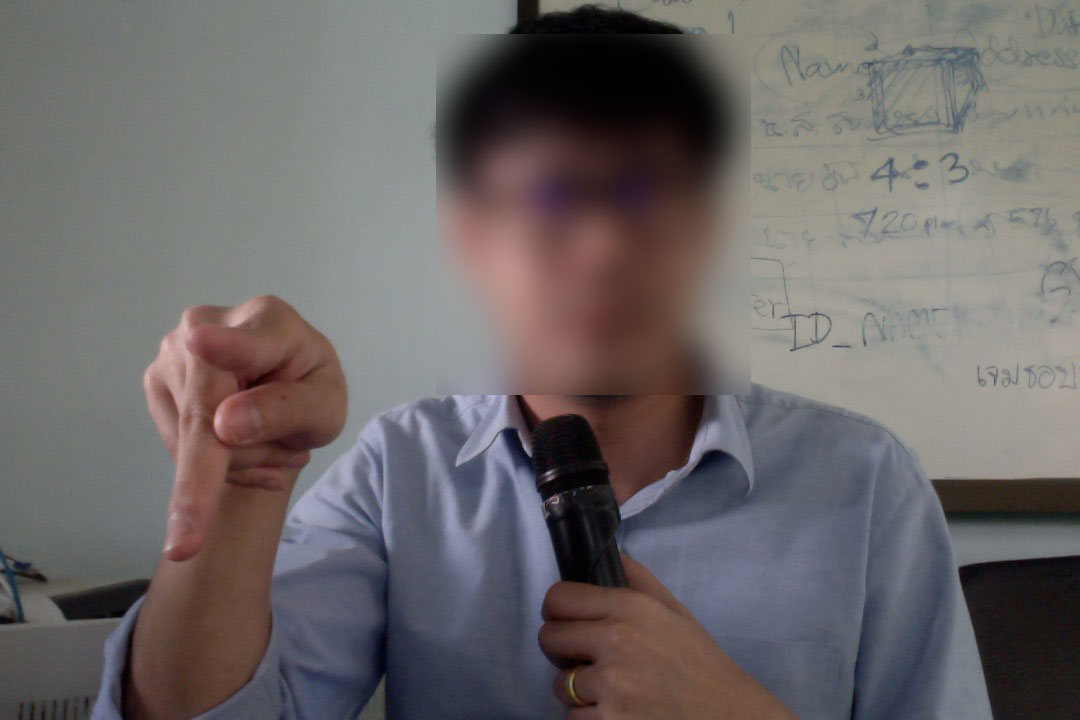por: (126, 270, 361, 568)
